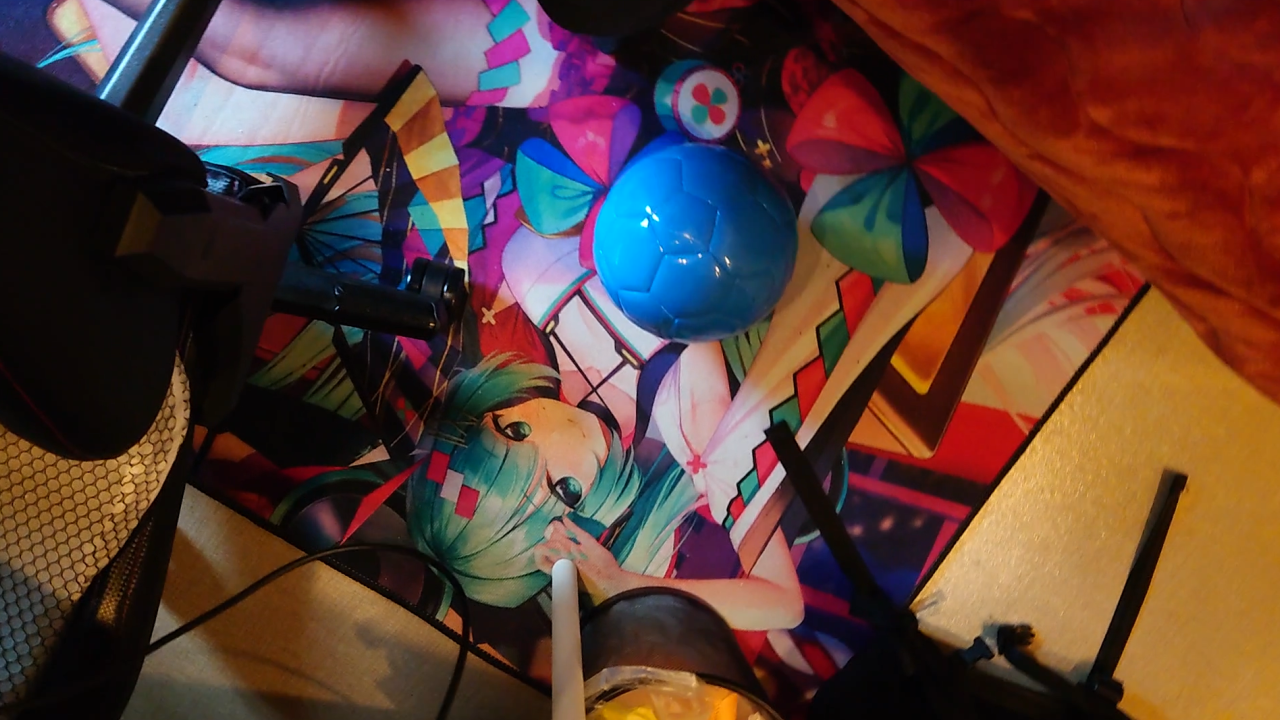BlueBall: (587, 140, 797, 343)
